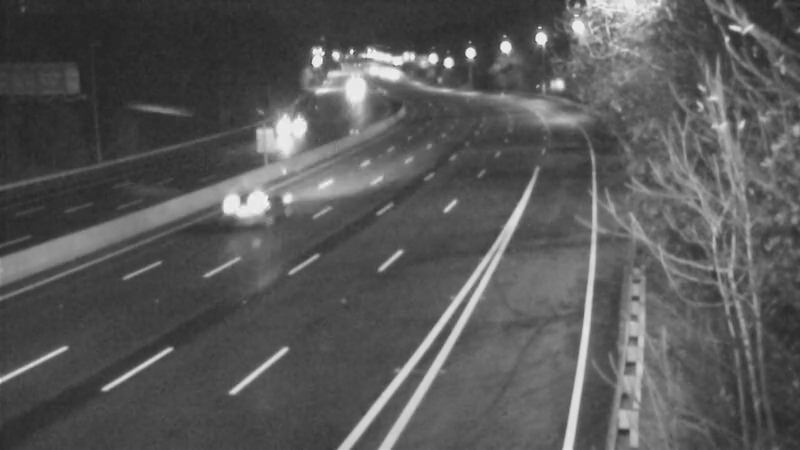vehicle: (207, 167, 287, 247), (261, 109, 311, 159), (327, 65, 377, 115)
